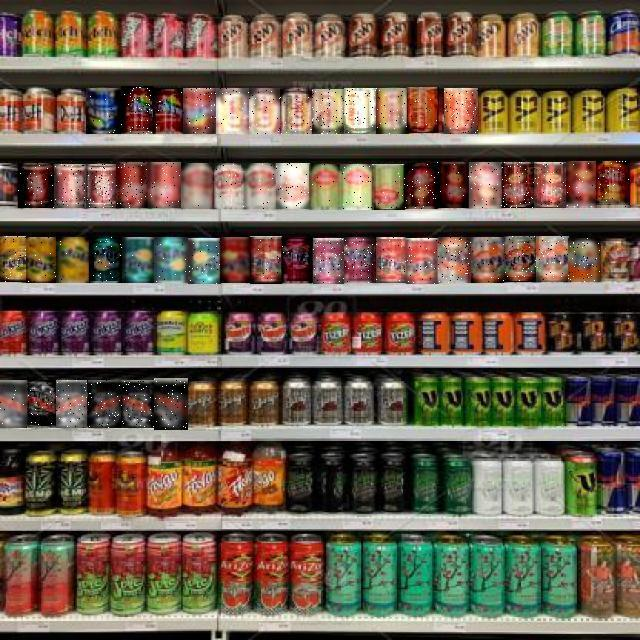Drinks: (154, 378, 188, 430), (86, 88, 122, 134), (18, 163, 54, 208), (121, 86, 154, 134), (88, 380, 121, 428), (121, 380, 154, 428), (183, 88, 217, 134), (408, 87, 442, 133), (444, 88, 478, 134), (116, 163, 150, 209), (212, 163, 246, 209), (276, 163, 310, 209), (340, 164, 374, 210), (404, 163, 438, 209), (436, 163, 470, 209), (596, 162, 630, 208), (56, 237, 90, 283), (154, 237, 188, 283), (250, 236, 282, 284), (216, 88, 249, 134), (376, 88, 409, 134), (148, 163, 181, 209), (181, 163, 214, 209), (245, 163, 278, 209), (309, 164, 342, 210), (372, 164, 405, 210), (469, 163, 502, 209), (501, 163, 534, 209), (89, 237, 122, 283), (122, 237, 155, 283), (188, 238, 221, 284), (406, 238, 439, 284), (438, 237, 471, 283), (471, 237, 504, 283), (536, 236, 569, 282), (56, 381, 87, 429), (312, 89, 345, 134), (504, 236, 536, 282), (280, 88, 312, 134), (344, 88, 376, 134), (534, 163, 566, 209), (85, 164, 118, 208), (153, 89, 184, 135), (249, 88, 280, 134), (566, 162, 597, 208), (220, 237, 251, 283), (313, 238, 344, 284), (54, 164, 86, 208), (568, 238, 600, 282), (27, 381, 56, 429), (26, 237, 56, 283), (282, 238, 312, 284), (344, 237, 374, 283), (376, 237, 406, 283), (0, 381, 28, 429), (0, 236, 26, 282)
